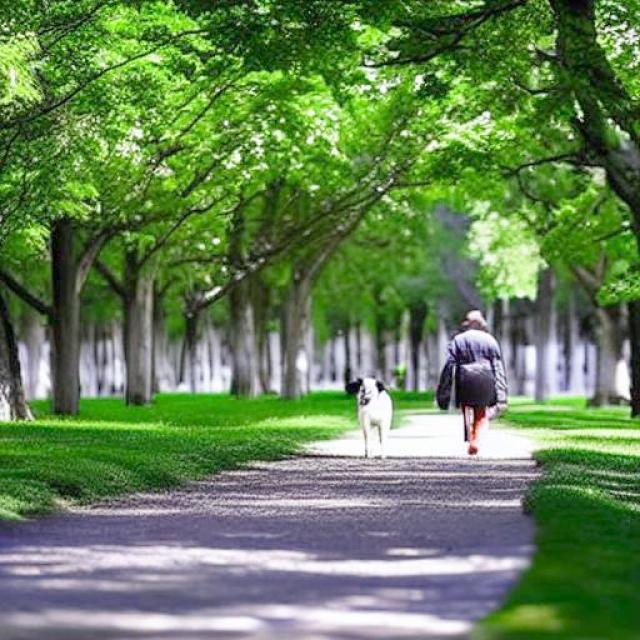Unleashed_Dog: (345, 366, 493, 459)
